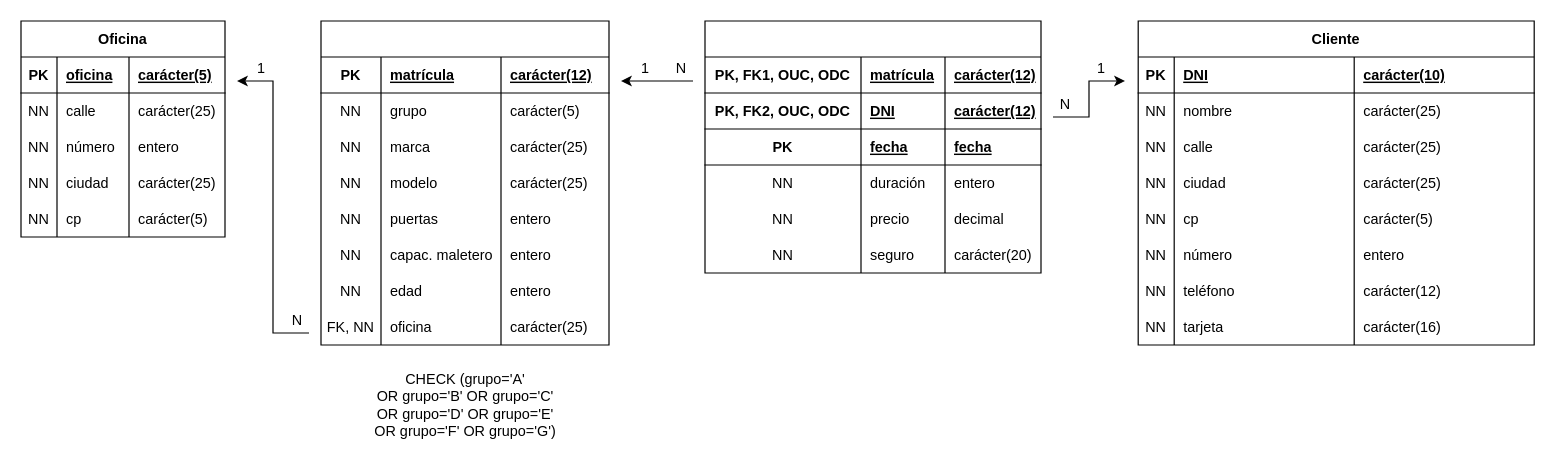
This 1555x462 diagram has some shape labels left out. Each missing label, with the box of its shape:
Alquiler: (704, 20, 1041, 273)
Coche: (320, 20, 609, 345)
